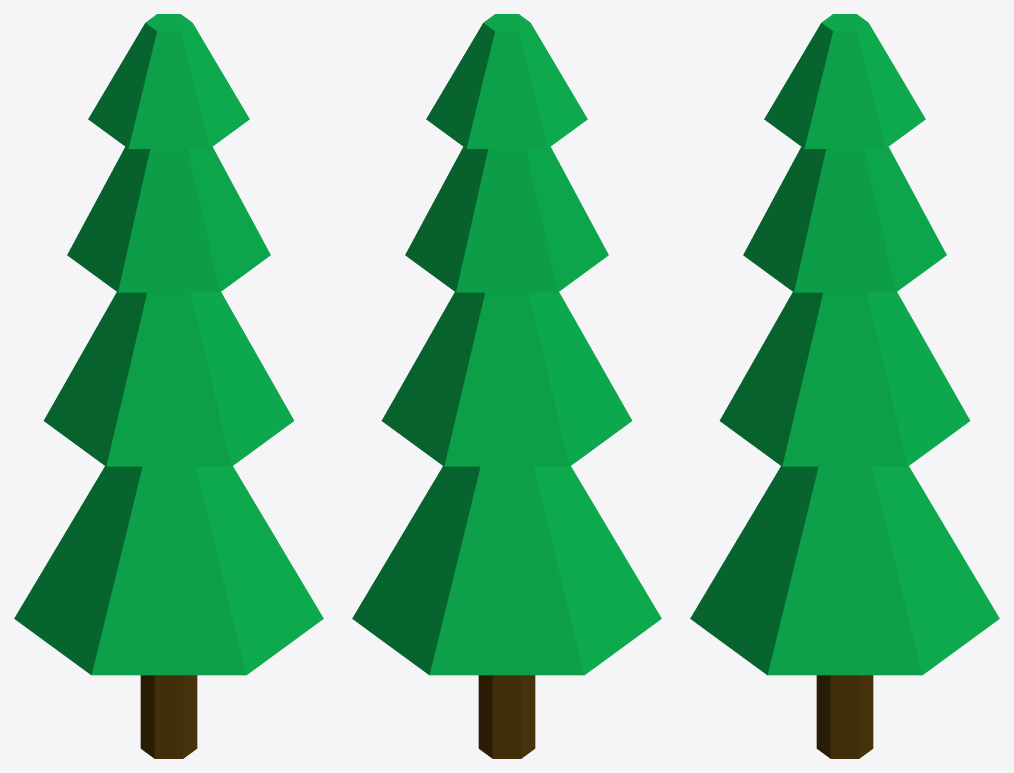
Rendered from Tree spruce 2.fbx.
The picture shows the model from 3 angles, left to right: view 1: azimuth 30°, elevation 25°; view 2: azimuth 150°, elevation 25°; view 3: azimuth 270°, elevation 25°; orthographic projection.
Visible parts, largest first — view 1: Spruce; view 2: Spruce; view 3: Spruce.
Part boxes in pixels (x1,y1,x2,y2): Spruce: (14, 14, 323, 758); Spruce: (352, 14, 661, 758); Spruce: (690, 14, 999, 758).
Bounding box in the file's own units: 173 × 517 × 200.
